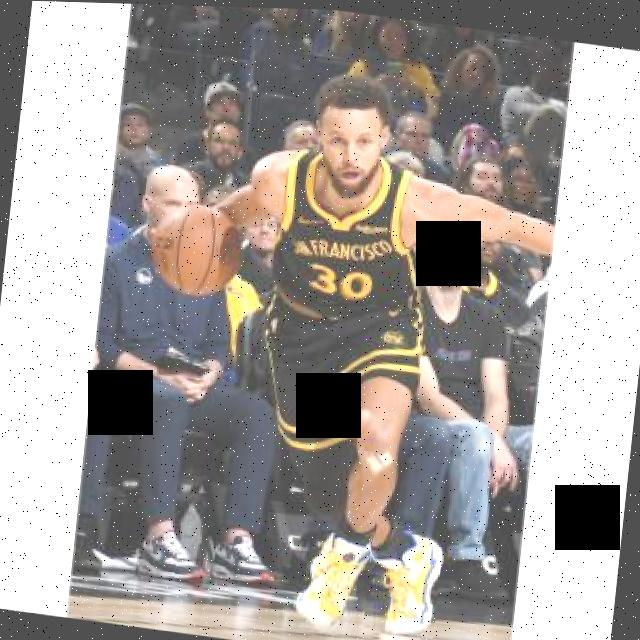shoe: (292, 523, 372, 632), (368, 524, 444, 638), (135, 520, 206, 583), (209, 527, 278, 585)
